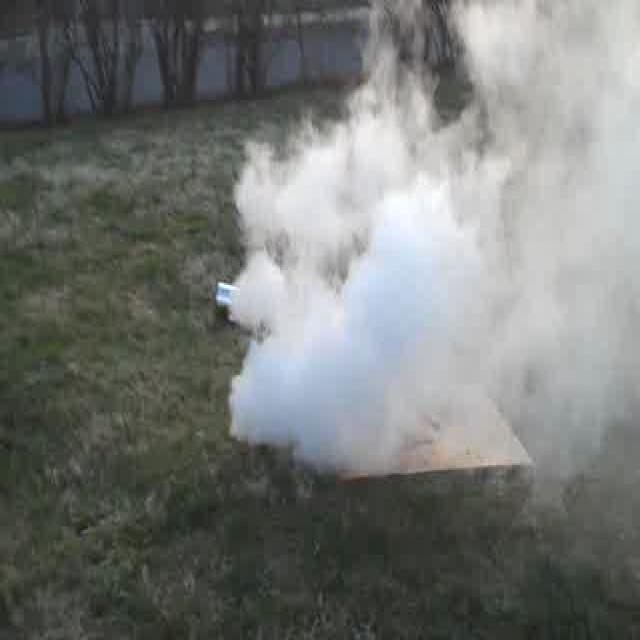Smoke: (237, 1, 633, 464), (242, 108, 640, 452)
